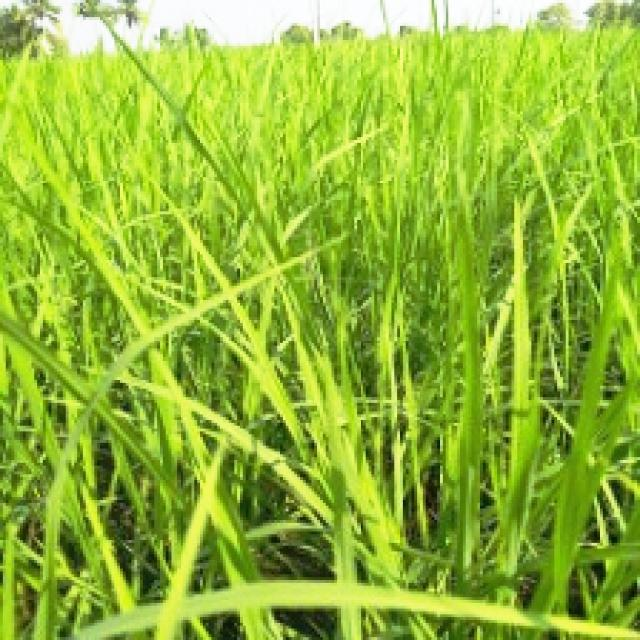health: (2, 52, 640, 640)
